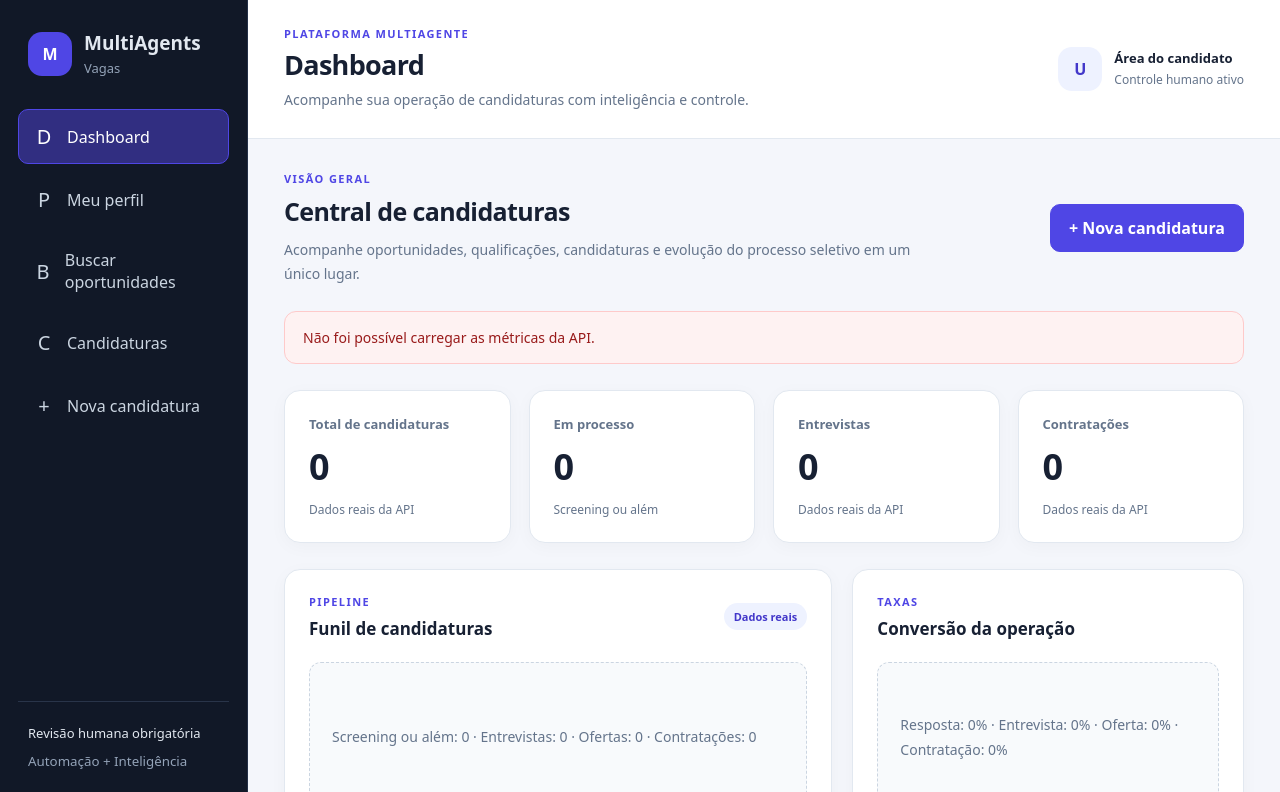
Test: Navegação da plataforma › abre o formulário pelo menu Nova candidatura
Click the button "+ Nova candidatura" below "Vagas": (124,406) [18,378,229,433]
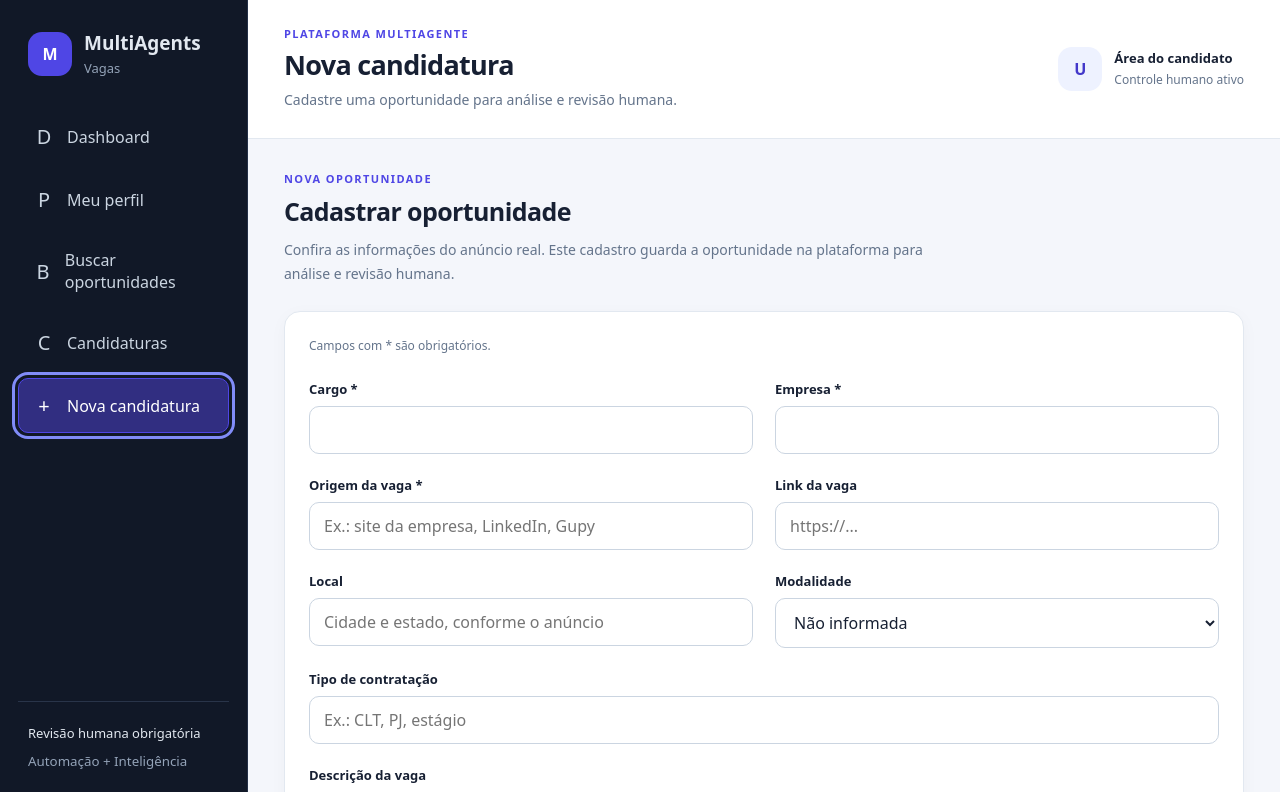
Now the heading "Cadastrar oportunidade" is shown, box [284,194,571,228]
